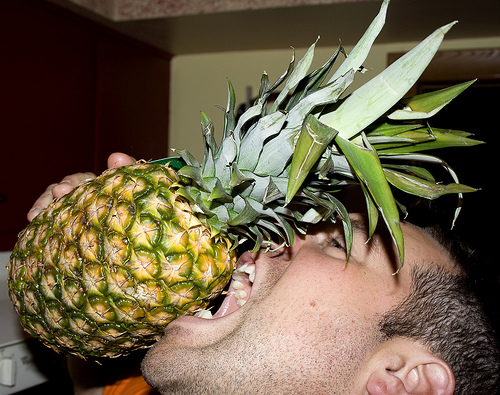pineapple: (6, 4, 483, 362)
